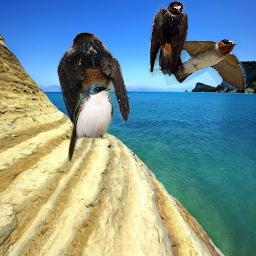Swallow: (57, 32, 131, 133), (157, 39, 246, 90), (68, 79, 116, 162), (149, 1, 188, 77)
